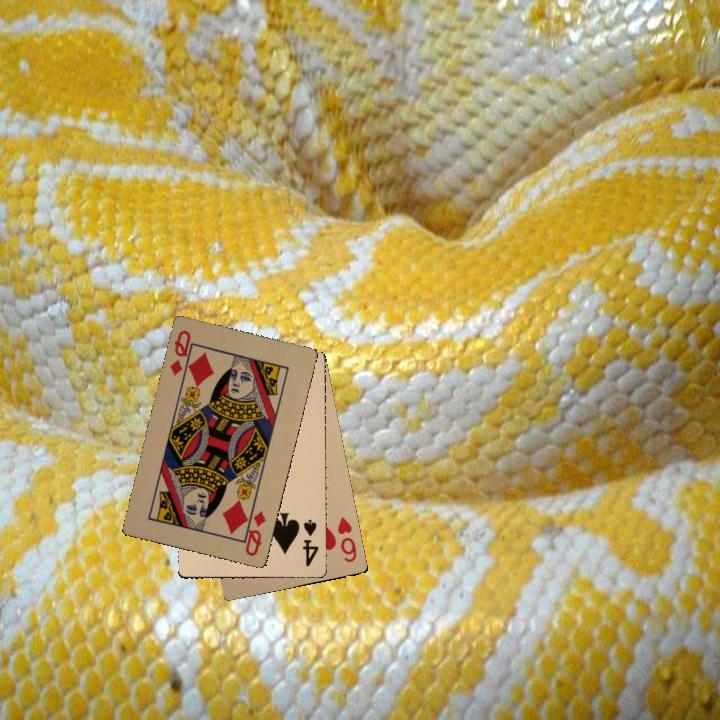4s: (299, 516, 321, 569)
6h: (333, 514, 359, 565)
Qd: (166, 326, 198, 380), (240, 501, 268, 559)
